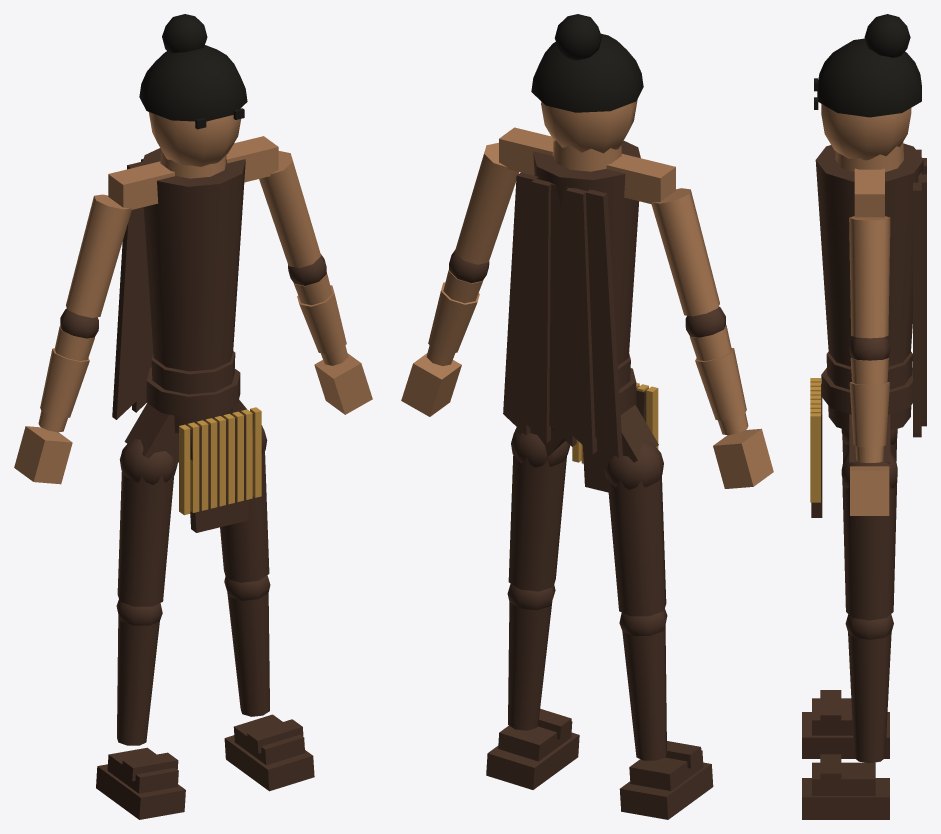
File: maori-body.glb
3 renders of one model, left to right at view 1: azimuth 30°, elevation 25°; view 2: azimuth 150°, elevation 25°; view 3: azimuth 270°, elevation 25°, orthographic. The views are drawn at different scales.
Visible parts, largest first — view 1: FittedTorso, SkirtFiber (×9), HairCrown, Thigh-1, CapeFold0, UpperArm-1, Shin-1, Shin1, UpperArm1, ShoulderLink (×2), Face, Thigh1 (+22 smaller); view 2: Thigh-1, Thigh1, CapeFold0, HairCrown, FittedTorso, CapeFold1, CapeFold3, UpperArm-1, CapeFold4, Shin-1, CapeFold2, Shin1 (+21 smaller); view 3: FittedTorso, HairCrown, Thigh1, UpperArm1, Shin1, Face, Sandal1, Bracer1, CapeFold4, Hand1, Waist, Foot1 (+16 smaller).
Boxes of the visible parts, bbox=[...] form: FittedTorso: bbox=[142, 148, 245, 371]; SkirtFiber (×9): bbox=[179, 407, 261, 515]; HairCrown: bbox=[139, 45, 247, 121]; Thigh-1: bbox=[117, 471, 174, 606]; CapeFold0: bbox=[112, 161, 145, 419]; UpperArm-1: bbox=[66, 194, 131, 317]; Shin-1: bbox=[117, 615, 159, 745]; Shin1: bbox=[227, 592, 269, 716]; UpperArm1: bbox=[259, 151, 320, 268]; ShoulderLink (×2): bbox=[108, 136, 278, 209]; Face: bbox=[149, 112, 240, 166]; Thigh1: bbox=[220, 446, 269, 582]; Thigh-1: bbox=[607, 475, 666, 616]; Thigh1: bbox=[508, 450, 566, 591]; CapeFold0: bbox=[586, 189, 622, 457]; HairCrown: bbox=[531, 33, 643, 112]; FittedTorso: bbox=[533, 140, 640, 365]; CapeFold1: bbox=[566, 188, 597, 454]; CapeFold3: bbox=[523, 178, 551, 443]; UpperArm-1: bbox=[651, 188, 719, 316]; CapeFold4: bbox=[503, 172, 538, 435]; Shin-1: bbox=[622, 625, 666, 760]; CapeFold2: bbox=[549, 183, 576, 446]; Shin1: bbox=[508, 601, 552, 730]; FittedTorso: bbox=[815, 143, 923, 366]; HairCrown: bbox=[817, 38, 921, 117]; Thigh1: bbox=[842, 479, 897, 620]; UpperArm1: bbox=[849, 216, 890, 338]; Shin1: bbox=[848, 632, 891, 763]; Face: bbox=[821, 104, 911, 160]; Sandal1: bbox=[802, 778, 889, 819]; Bracer1: bbox=[849, 382, 889, 447]; CapeFold4: bbox=[913, 182, 921, 437]; Hand1: bbox=[850, 466, 889, 515]; Waist: bbox=[826, 352, 912, 430]; Foot1: bbox=[812, 762, 875, 795].
Size of the model in its own units: 0.9158 by 1.95 by 0.2885.
